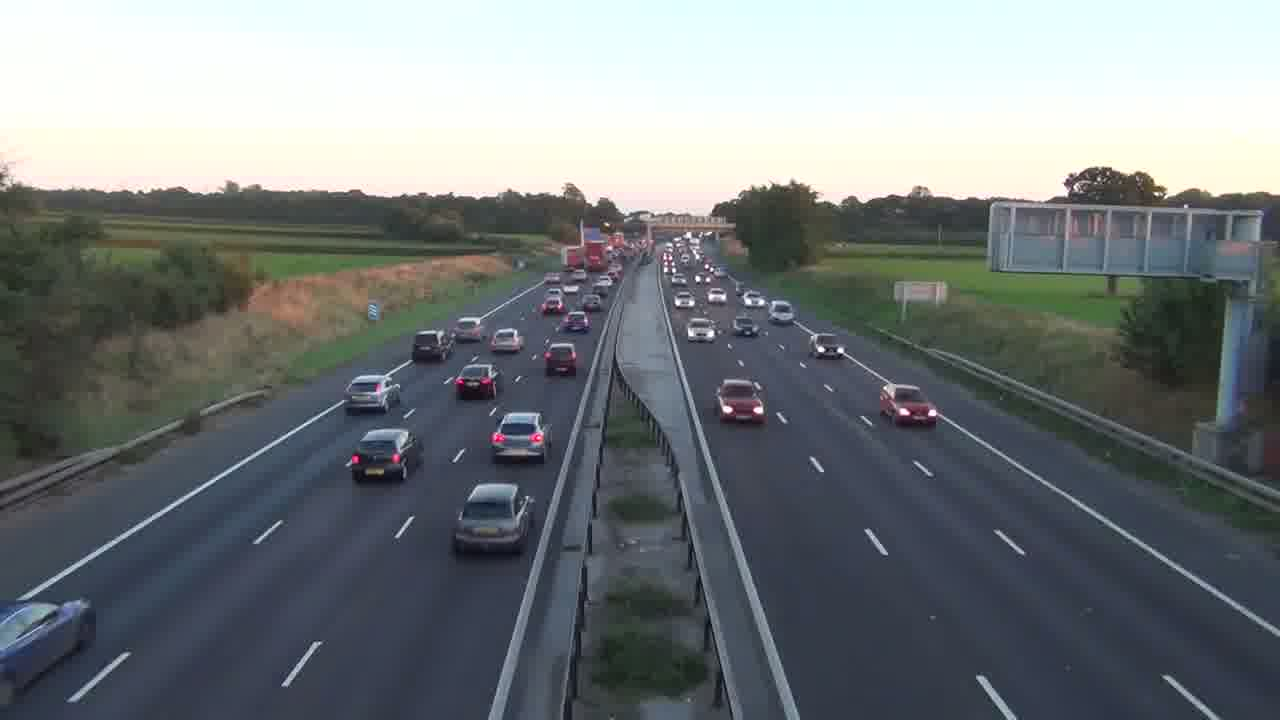car: (0, 596, 97, 699), (451, 481, 536, 555), (347, 427, 423, 482), (489, 411, 548, 464), (879, 383, 939, 427), (716, 378, 767, 424), (454, 363, 500, 400), (544, 343, 578, 376), (490, 327, 524, 353), (686, 316, 717, 342)
truck: (413, 327, 452, 363)
